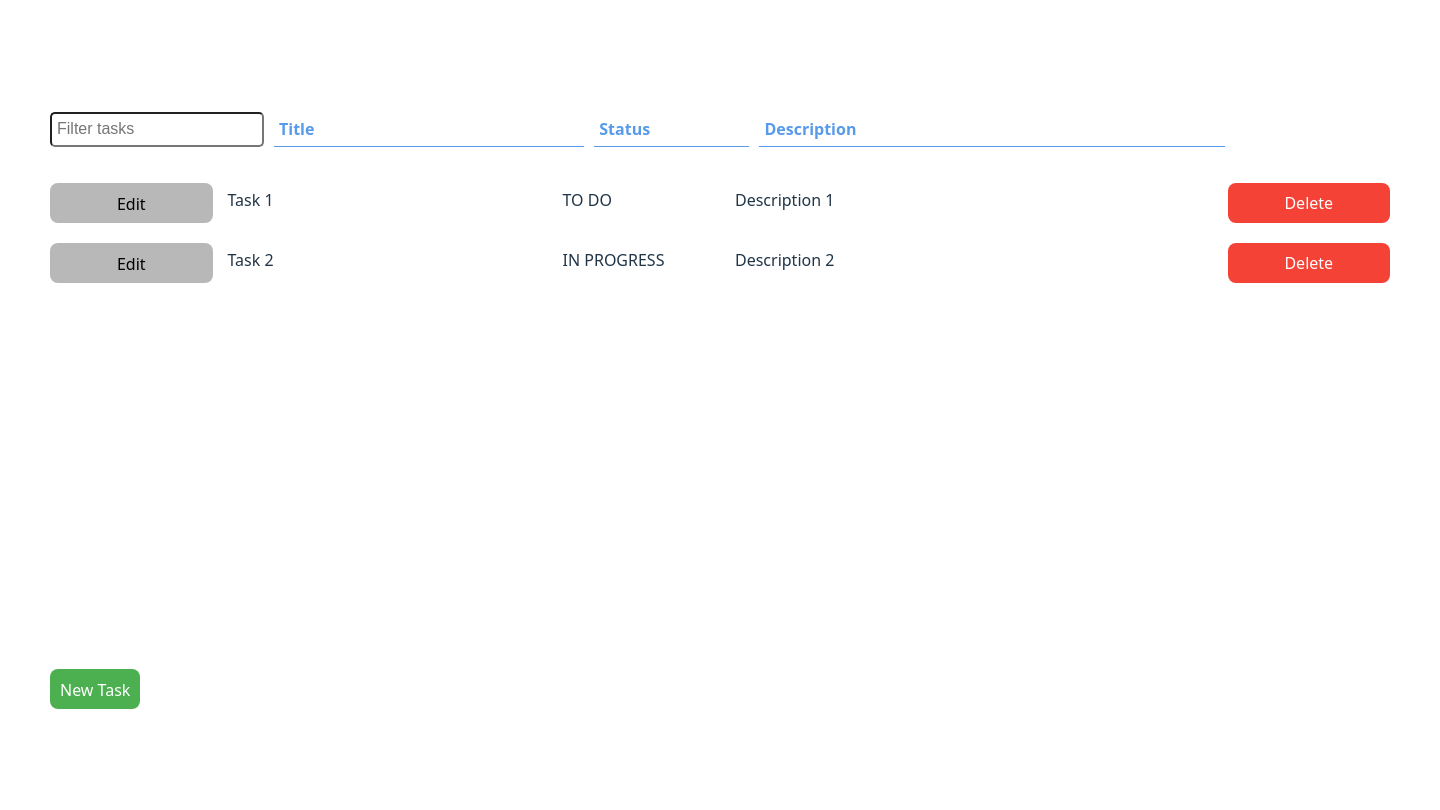
Tasks Component › filters tasks based on search query
Type "Task 1" into the field with placeholder "Filter tasks" at (157, 129), box [50,112,264,146]
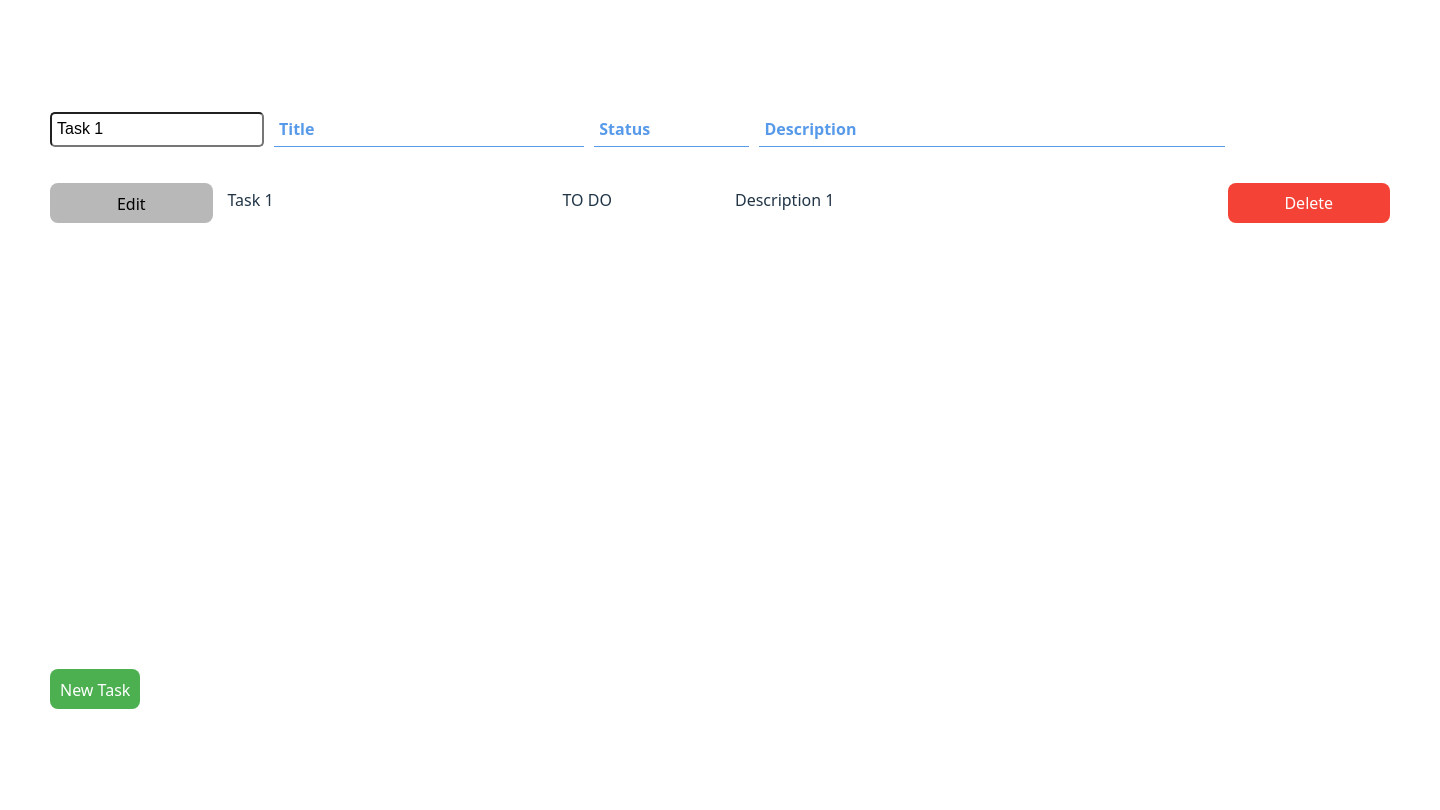
Expected: the text "Task 1" is shown, [228,188,274,210]
Now the text "Task 2" is gone
